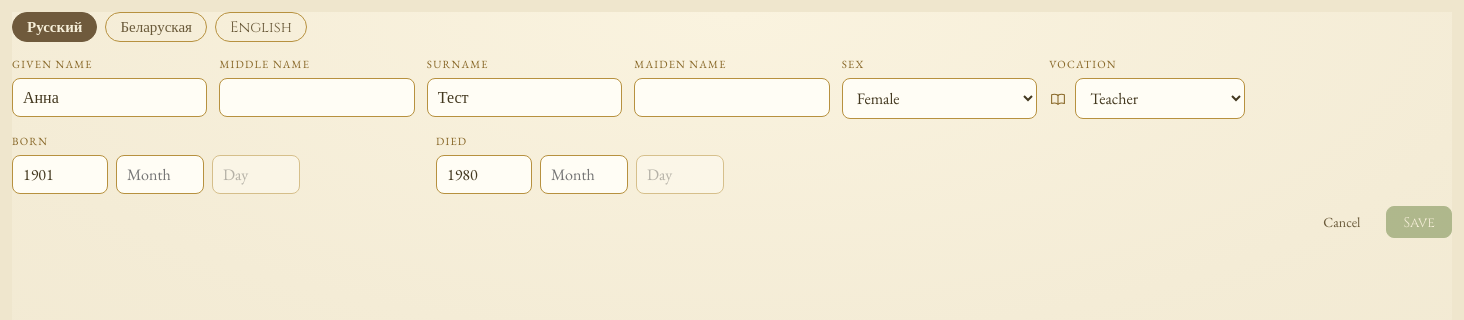
Test: MemberFieldsEditor › editing only the month enables Save
The width and height of the screenshot is (1464, 320).
expect the button with test id "fields-save" is disabled: met, box x1=1386 y1=206 x2=1452 y2=238
Type "5" into the number field with test id "field-birthMonth" at (160, 174), box x1=116 y1=155 x2=204 y2=194
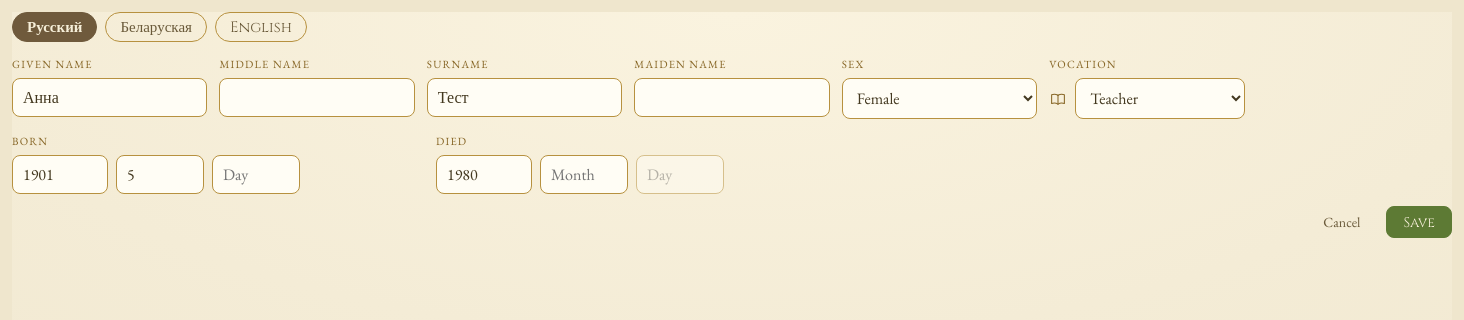
expect the button with test id "fields-save" is enabled: met, box x1=1386 y1=206 x2=1452 y2=238
